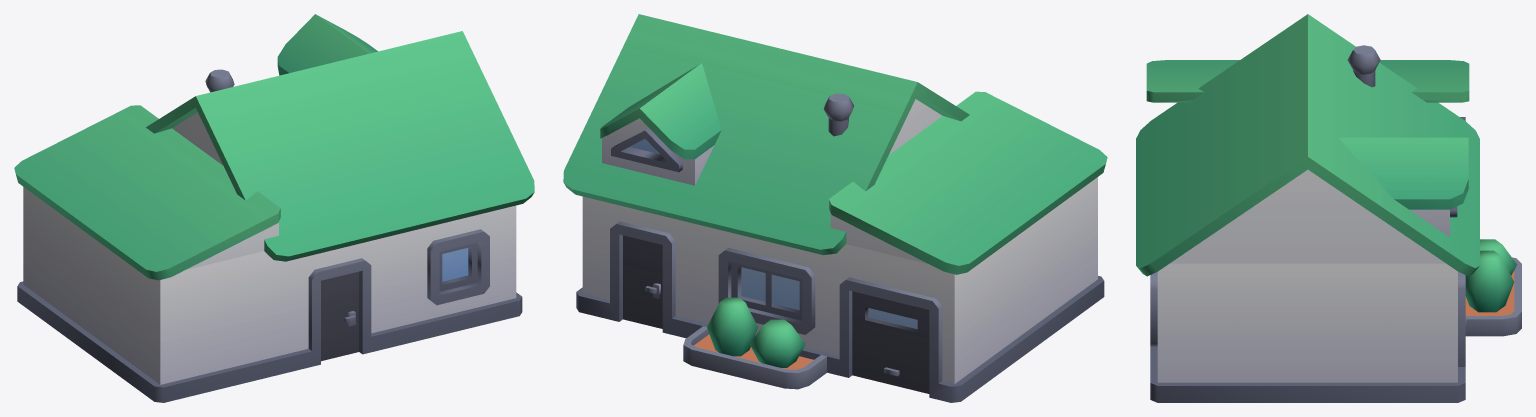
The model's file is kenney-city-suburban-building-type-i.glb.
The picture shows the model from 3 angles, left to right: view 1: azimuth 30°, elevation 25°; view 2: azimuth 150°, elevation 25°; view 3: azimuth 270°, elevation 25°; orthographic projection. The views are drawn at different scales.
Parts seen in each view (by area): view 1: building-type-i; view 2: building-type-i; view 3: building-type-i.
Part boxes in pixels (left/top/right/bottom): building-type-i: left=14, top=14, right=534, bottom=402; building-type-i: left=563, top=14, right=1107, bottom=402; building-type-i: left=1136, top=14, right=1521, bottom=402.
Size of the model in its own units: 1.29 by 0.7375 by 1.03.
1 material, 1 textured.
